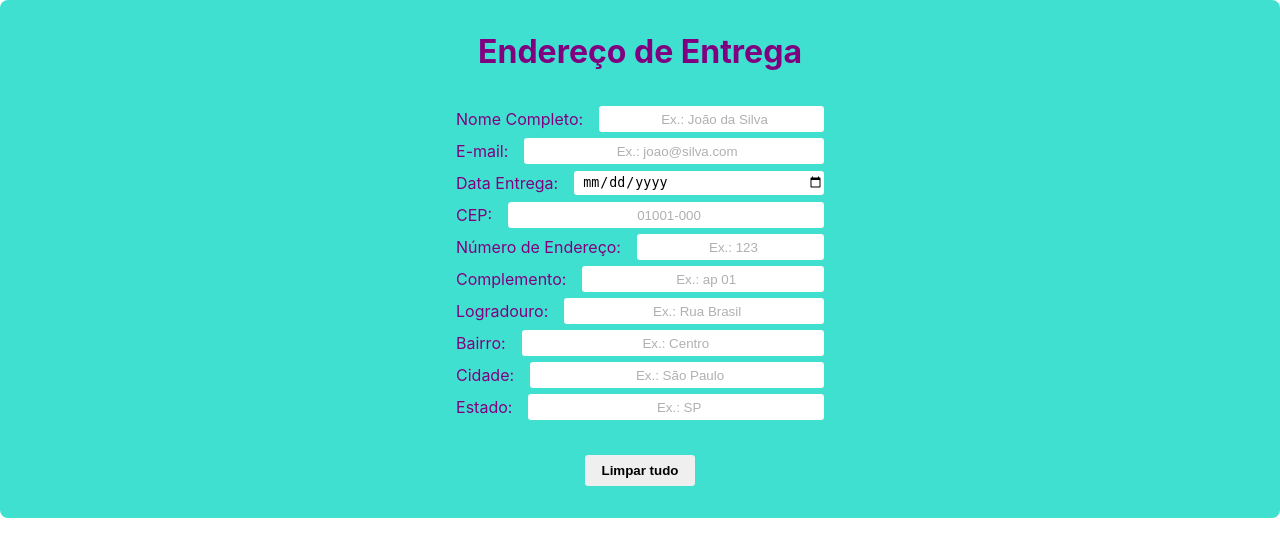
it: clear inputs button wokrs
This screenshot has width=1280, height=535.
Type "Maria Silva" into the field labelled "Nome Completo:" at (712,119), box top-left (599, 106), bottom-right (824, 132)
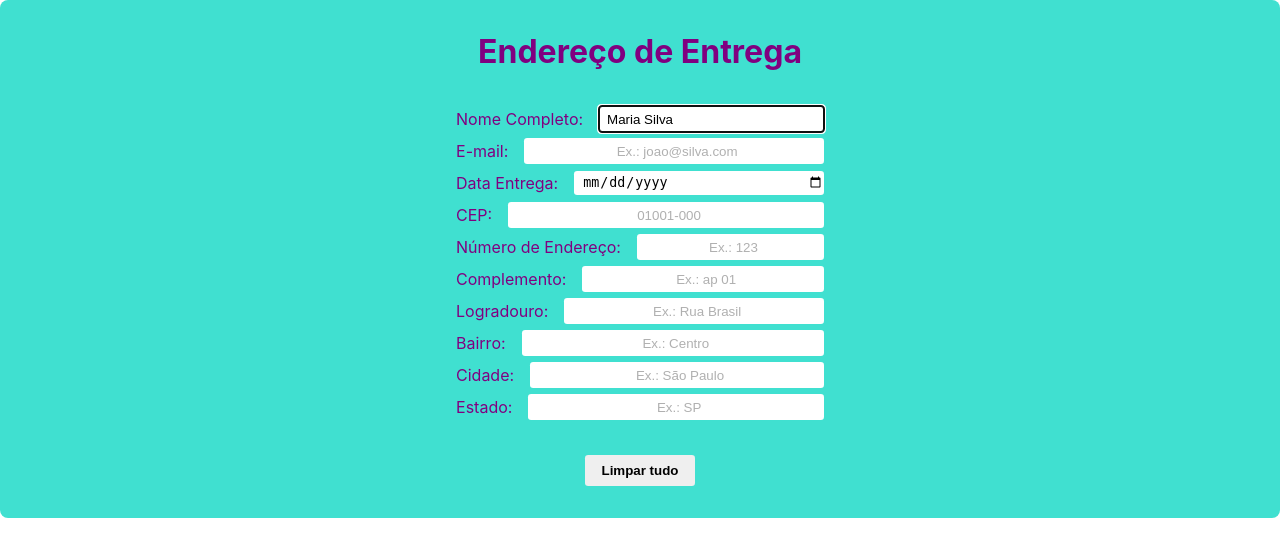
Click the button "Limpar tudo" at (640,470), box top-left (586, 455), bottom-right (694, 486)
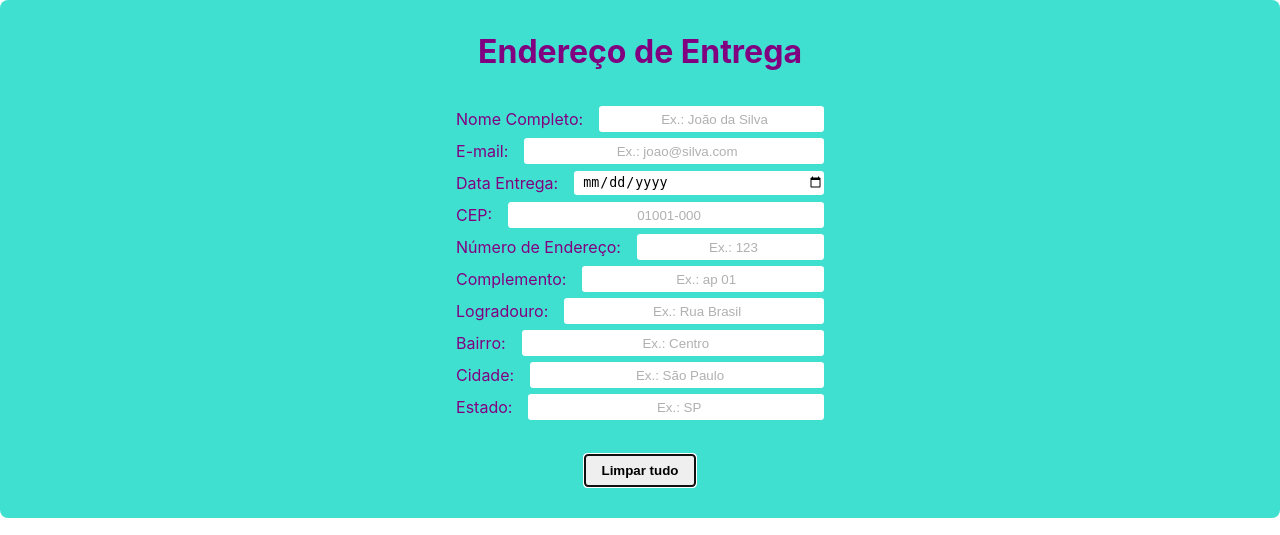
Now the field labelled "Nome Completo:" is empty, box top-left (599, 106), bottom-right (824, 132)
